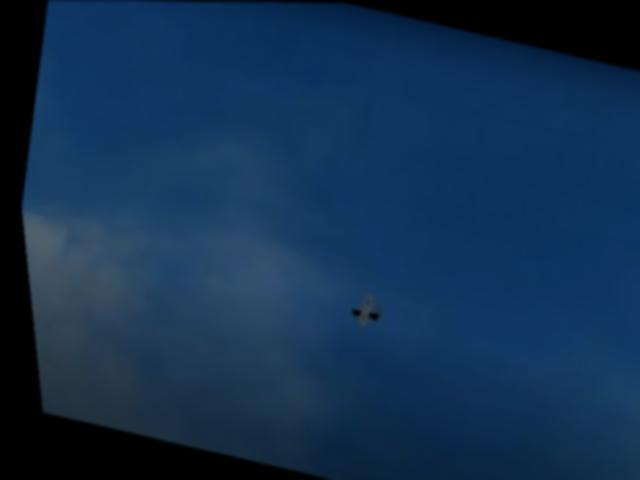uav: (336, 286, 384, 335)
